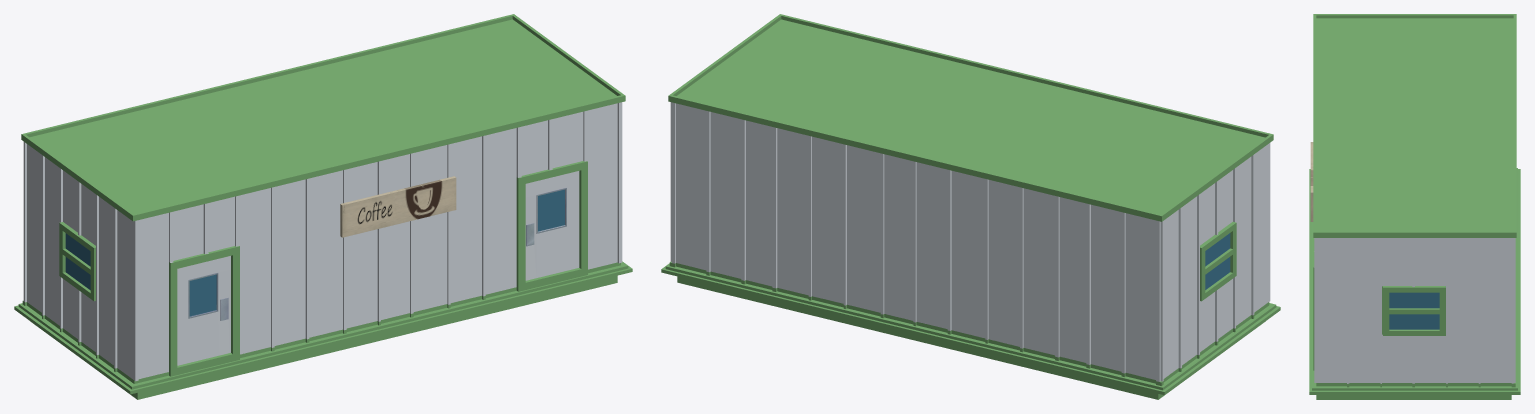
File: break room_1.fbx
The picture shows the model from 3 angles, left to right: view 1: azimuth 30°, elevation 25°; view 2: azimuth 150°, elevation 25°; view 3: azimuth 270°, elevation 25°; orthographic projection. The views are drawn at different scales.
Parts seen in each view (by area): view 1: pCube10, pCube1, pCube5, pCube6, polySurface1; view 2: pCube10, pCube1, polySurface1; view 3: pCube1, pCube10, polySurface1, pCube6.
Part boxes in pixels (bbox=[...]): pCube10: bbox=[23, 102, 622, 381]; pCube1: bbox=[14, 14, 632, 399]; pCube5: bbox=[177, 171, 579, 365]; pCube6: bbox=[340, 176, 456, 237]; polySurface1: bbox=[59, 222, 95, 301]; pCube10: bbox=[670, 102, 1270, 381]; pCube1: bbox=[661, 14, 1280, 399]; polySurface1: bbox=[1200, 222, 1236, 301]; pCube1: bbox=[1309, 14, 1520, 399]; pCube10: bbox=[1313, 238, 1515, 383]; polySurface1: bbox=[1383, 286, 1445, 335]; pCube6: bbox=[1310, 142, 1313, 221].
Bounding box in the file's own units: 1267 × 450 × 507.
